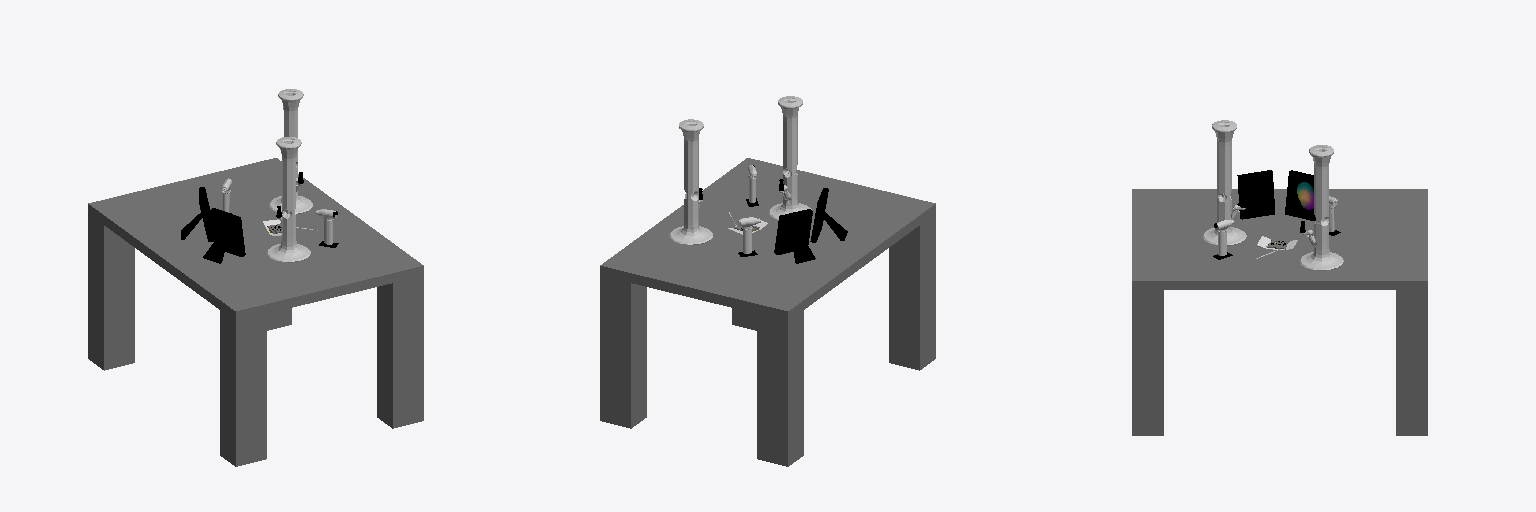
3 views of the same model, side by side, from view 1: azimuth 30°, elevation 25°; view 2: azimuth 150°, elevation 25°; view 3: azimuth 270°, elevation 25° (orthographic).
Parts seen in each view (by area): view 1: pCube1, group1 Practice_Bongs:nurbsToPoly9, group2 Practice_Bongs:pCube1, group8 nurbsToPoly9, Practice_Bongs:pCube3 group2; view 2: pCube1, group8 nurbsToPoly9, group1 Practice_Bongs:nurbsToPoly9, Practice_Bongs:pCube3 group2, group2 Practice_Bongs:pCube1; view 3: pCube1, group8 nurbsToPoly9, group1 Practice_Bongs:nurbsToPoly9, group2 Practice_Bongs:pCube1, Practice_Bongs:pCube3 group2.
Part boxes in pixels (left/top/right/bottom): pCube1: left=88, top=158, right=423, bottom=466; group1 Practice_Bongs:nurbsToPoly9: left=267, top=137, right=310, bottom=262; group2 Practice_Bongs:pCube1: left=203, top=208, right=245, bottom=263; group8 nurbsToPoly9: left=269, top=89, right=312, bottom=213; Practice_Bongs:pCube3 group2: left=181, top=187, right=213, bottom=241; pCube1: left=600, top=158, right=935, bottom=466; group8 nurbsToPoly9: left=669, top=119, right=712, bottom=244; group1 Practice_Bongs:nurbsToPoly9: left=769, top=96, right=811, bottom=219; Practice_Bongs:pCube3 group2: left=774, top=209, right=815, bottom=263; group2 Practice_Bongs:pCube1: left=810, top=188, right=847, bottom=242; pCube1: left=1132, top=189, right=1427, bottom=435; group8 nurbsToPoly9: left=1300, top=145, right=1343, bottom=270; group1 Practice_Bongs:nurbsToPoly9: left=1202, top=120, right=1246, bottom=245; group2 Practice_Bongs:pCube1: left=1237, top=170, right=1274, bottom=219; Practice_Bongs:pCube3 group2: left=1285, top=170, right=1315, bottom=220.
Bounding box in the file's own units: 16.21 × 22.05 × 22.01.
13 materials, 1 textured.